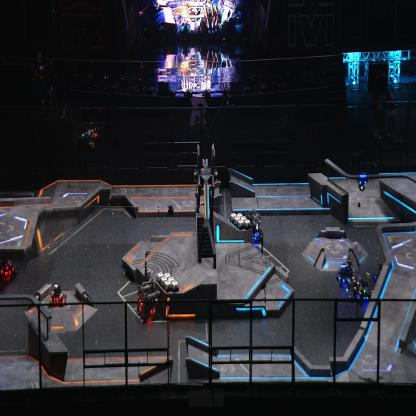car: (136, 280, 160, 324), (242, 208, 263, 243), (334, 258, 355, 288), (0, 249, 18, 281), (49, 283, 68, 308), (373, 262, 391, 287), (353, 278, 370, 303)
